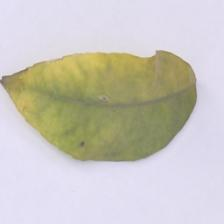greening: (2, 44, 204, 169)
